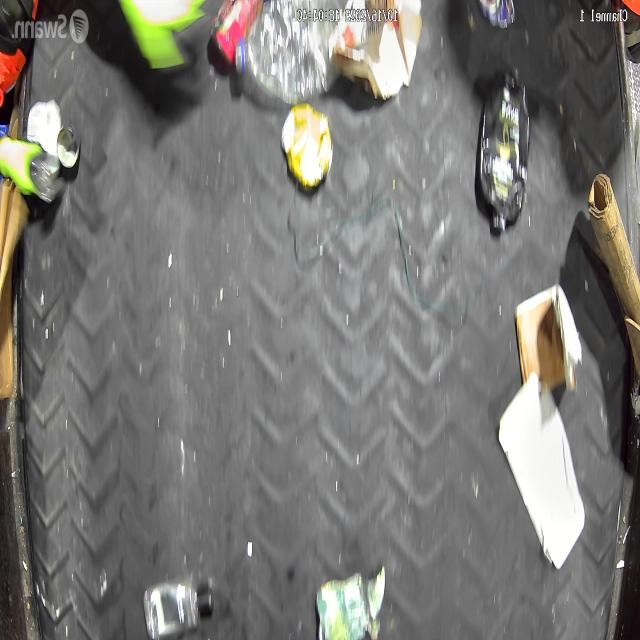can: (315, 565, 387, 640), (281, 105, 333, 188), (209, 0, 264, 68)
plastic_bottle: (237, 0, 348, 103), (478, 69, 531, 233), (142, 581, 213, 640)
